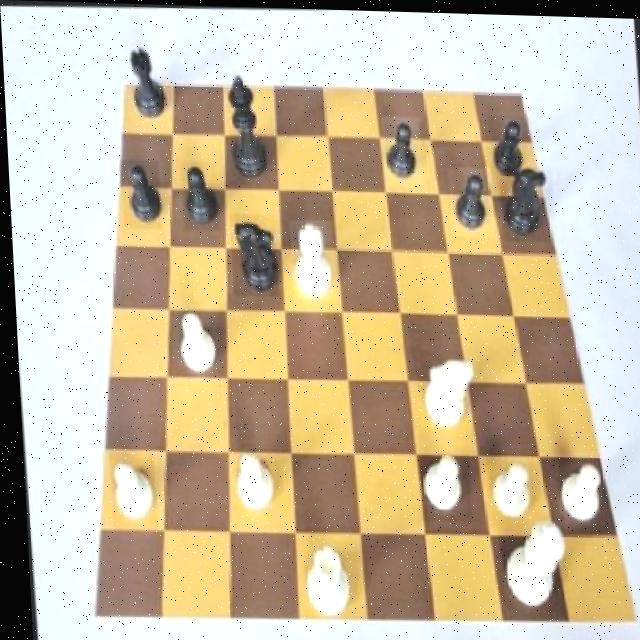black-bishop: (222, 71, 269, 185)
black-king: (498, 162, 554, 239), (227, 211, 276, 295)
black-knight: (446, 163, 492, 234), (381, 113, 423, 185), (118, 160, 160, 230), (179, 161, 219, 231), (488, 113, 528, 180)
black-queen: (125, 38, 169, 120)
white-bishop: (493, 511, 564, 610)
white-king: (416, 346, 473, 440)
white-knight: (410, 448, 467, 519), (105, 450, 152, 530), (224, 448, 279, 514), (550, 458, 605, 523), (482, 455, 532, 525), (166, 307, 218, 374)
white-queen: (289, 537, 353, 614), (288, 217, 335, 299)
